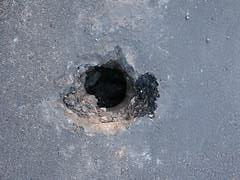Spalling: (63, 58, 160, 124)
